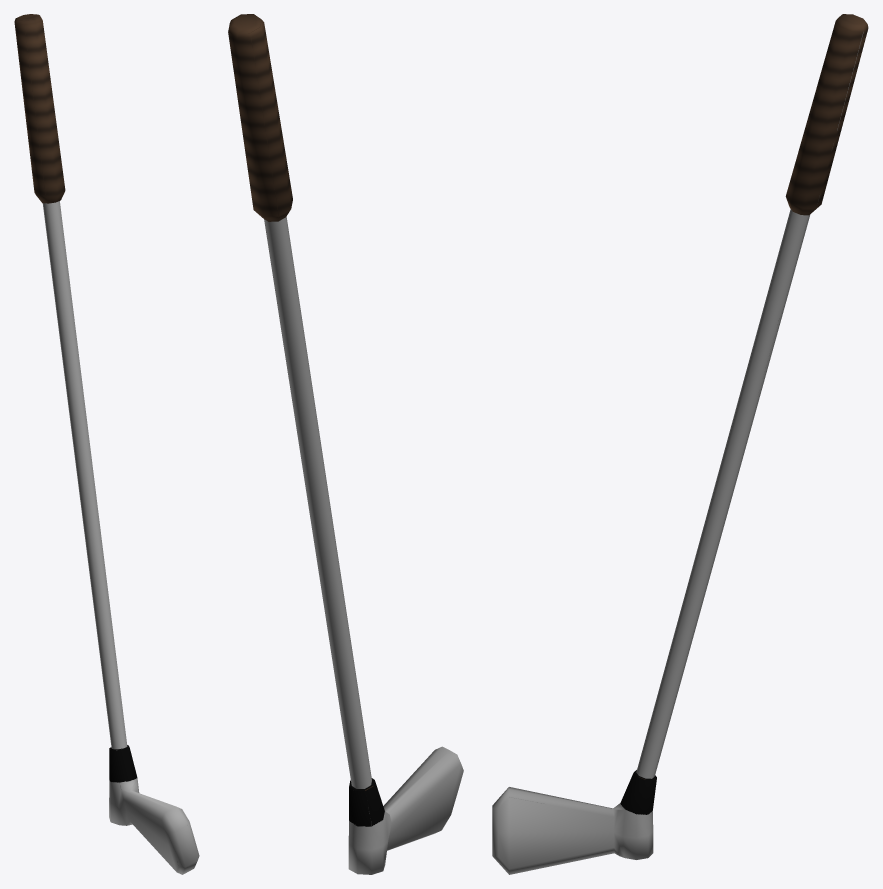
Rendered from Club.fbx.
The picture shows the model from 3 angles, left to right: view 1: azimuth 30°, elevation 25°; view 2: azimuth 150°, elevation 25°; view 3: azimuth 270°, elevation 25°; orthographic projection. The views are drawn at different scales.
Visible parts, largest first — view 1: Club.003; view 2: Club.003; view 3: Club.003.
Boxes of the visible parts, x1,y1,x2,y2 form: Club.003: [14, 14, 199, 874]; Club.003: [228, 14, 463, 874]; Club.003: [492, 14, 868, 874].
Bounding box in the file's own units: 191 × 3845 × 1535.
1 material, 1 textured.
